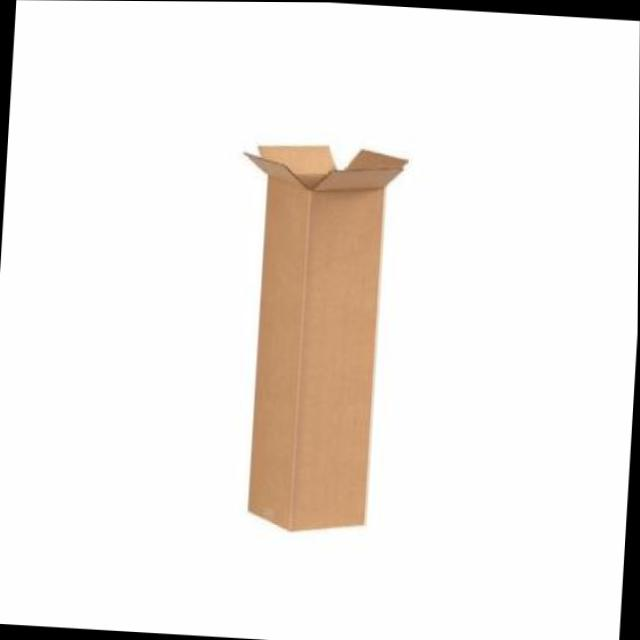box: (213, 115, 428, 550)
